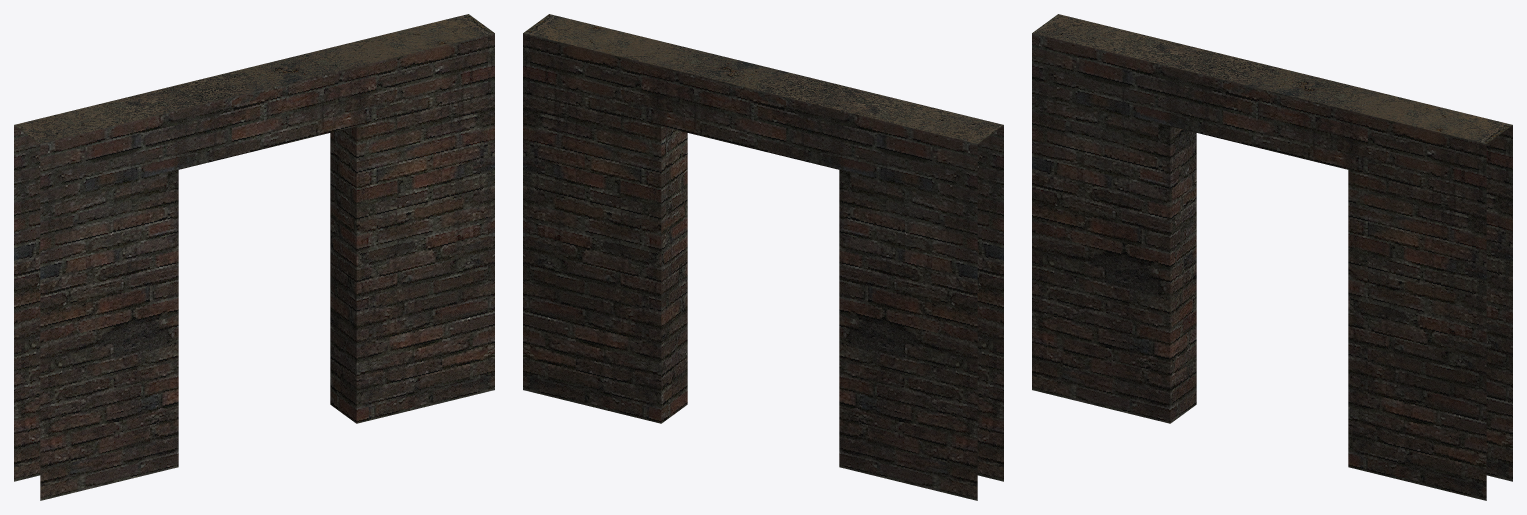
The model's file is doorway_hs_1_wide.glb.
3 views of the same model, side by side, from view 1: azimuth 30°, elevation 25°; view 2: azimuth 150°, elevation 25°; view 3: azimuth 330°, elevation 25° (orthographic).
Parts seen in each view (by area): view 1: doorway_hs_1_wide; view 2: doorway_hs_1_wide; view 3: doorway_hs_1_wide.
Part boxes in pixels (x1=…): doorway_hs_1_wide: x1=14, y1=14, x2=494, y2=500; doorway_hs_1_wide: x1=523, y1=14, x2=1003, y2=500; doorway_hs_1_wide: x1=1032, y1=14, x2=1512, y2=500.
Bounding box in the file's own units: 4 × 3 × 0.4.
Materials: 2 (2 with a texture image).
